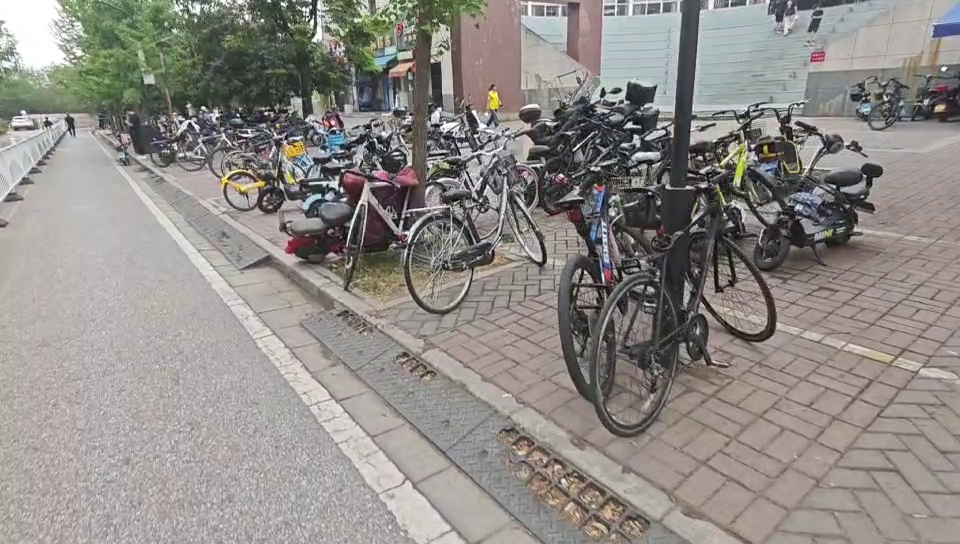others: (599, 174, 780, 431), (413, 132, 566, 304), (758, 118, 880, 266), (556, 160, 624, 396), (333, 150, 436, 283)
shared_bike_haluo: (281, 119, 349, 176)
shared_bike_meituan: (221, 130, 302, 207)
